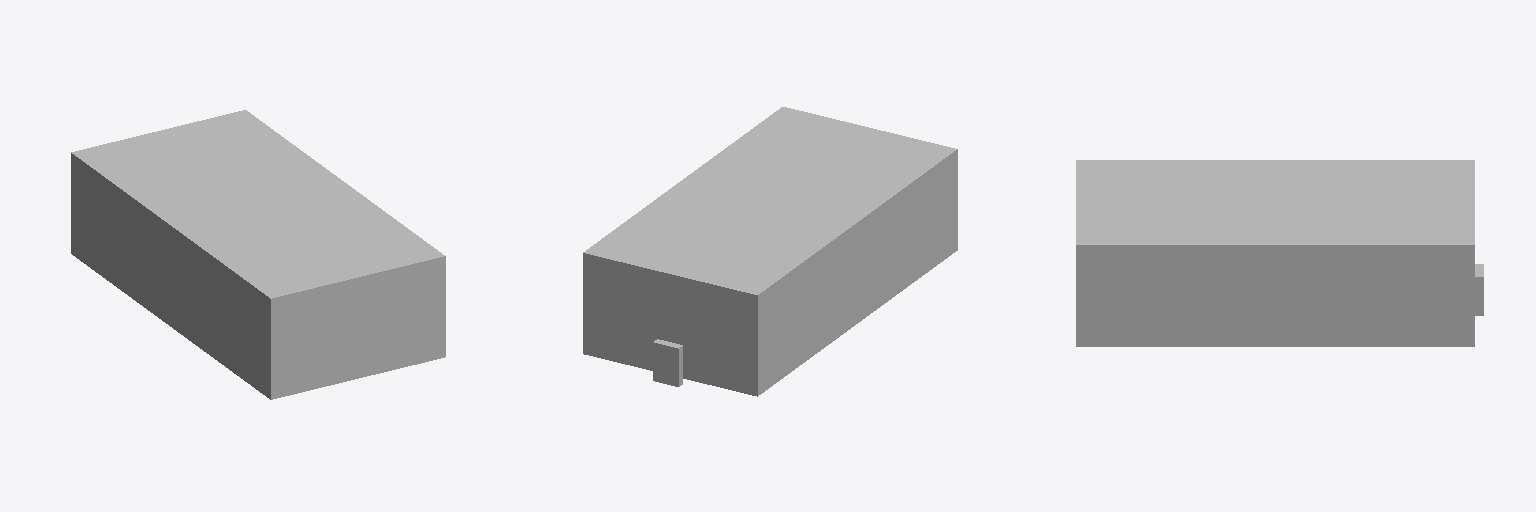
File: StationInterior.obj
3 renders of one model, left to right at view 1: azimuth 30°, elevation 25°; view 2: azimuth 150°, elevation 25°; view 3: azimuth 270°, elevation 25°, orthographic.
Visible parts, largest first — view 1: pCube1; view 2: pCube1, pCube2 pCube1; view 3: pCube1.
Boxes of the visible parts, <box> form: pCube1: <box>71,110,445,399</box>; pCube1: <box>583,107,957,396</box>; pCube2 pCube1: <box>653,339,682,386</box>; pCube1: <box>1076,160,1474,346</box>.
Size of the model in its own units: 10.1 by 5.89 by 20.45.